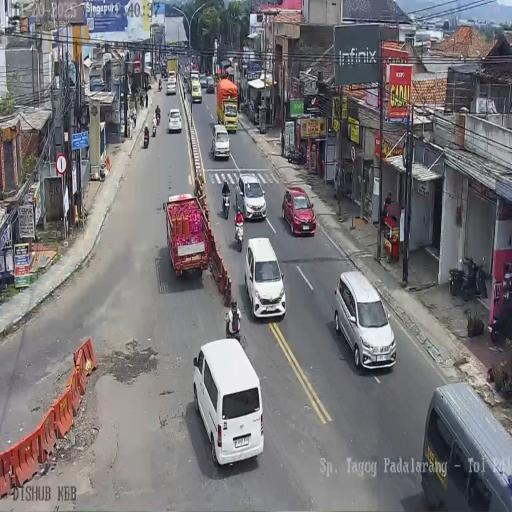3: (165, 193, 210, 279), (216, 77, 238, 132), (166, 57, 178, 78), (144, 52, 151, 76), (161, 65, 167, 78)
car: (421, 381, 511, 509), (193, 338, 265, 468), (337, 269, 396, 367), (244, 238, 286, 320), (282, 185, 316, 236), (235, 172, 266, 222), (211, 124, 230, 160), (168, 108, 182, 133), (190, 80, 202, 102), (166, 76, 177, 96), (206, 76, 215, 94), (182, 73, 188, 91), (199, 75, 207, 88)
truck: (284, 142, 305, 165), (234, 221, 244, 252), (222, 188, 230, 220), (240, 99, 248, 114), (132, 109, 137, 129), (152, 120, 156, 137), (140, 93, 144, 109), (156, 110, 160, 125), (158, 82, 161, 92), (154, 73, 157, 82)
